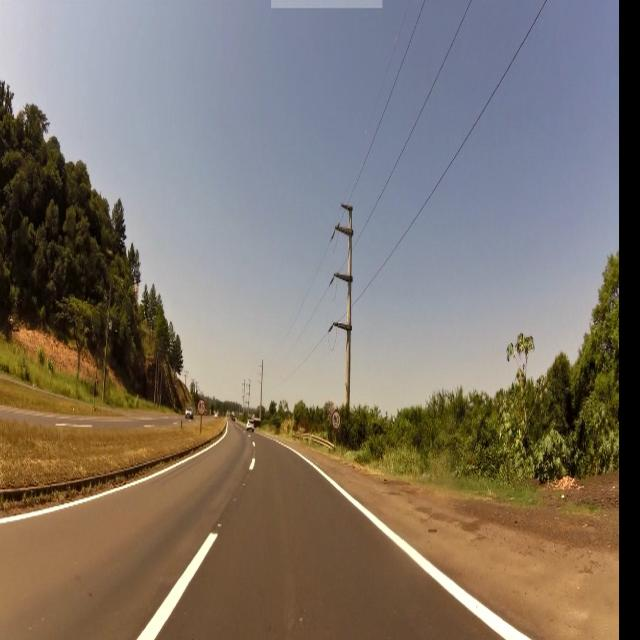R-19: (331, 411, 343, 431), (198, 398, 207, 419)
